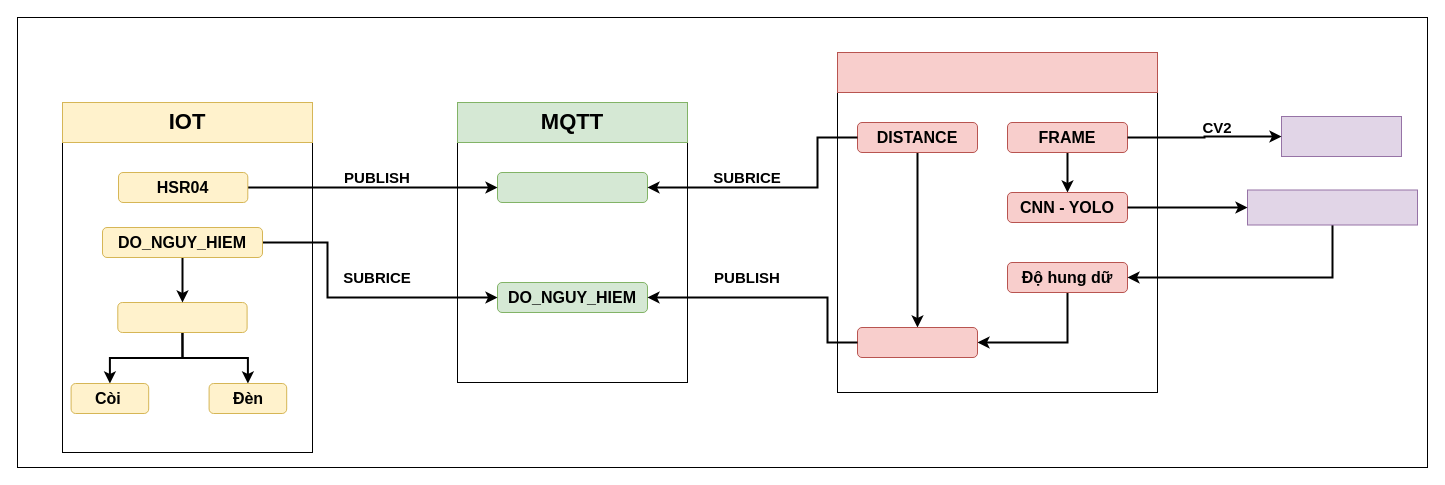
This 1445x485 diagram has some shape labels left out. The shapes that lost their labels are listed below. From the top down, each one's box as (x1, y1, x2, y2) in pixels, then its label:
(836, 52, 1158, 92): Laptop
(1280, 116, 1402, 156): Camera IP
(496, 172, 648, 202): KHOANG_CACH
(1246, 189, 1418, 225): Dataset csv file
(117, 302, 247, 332): Filter IF else
(856, 326, 978, 358): FUZZY LOGIC
